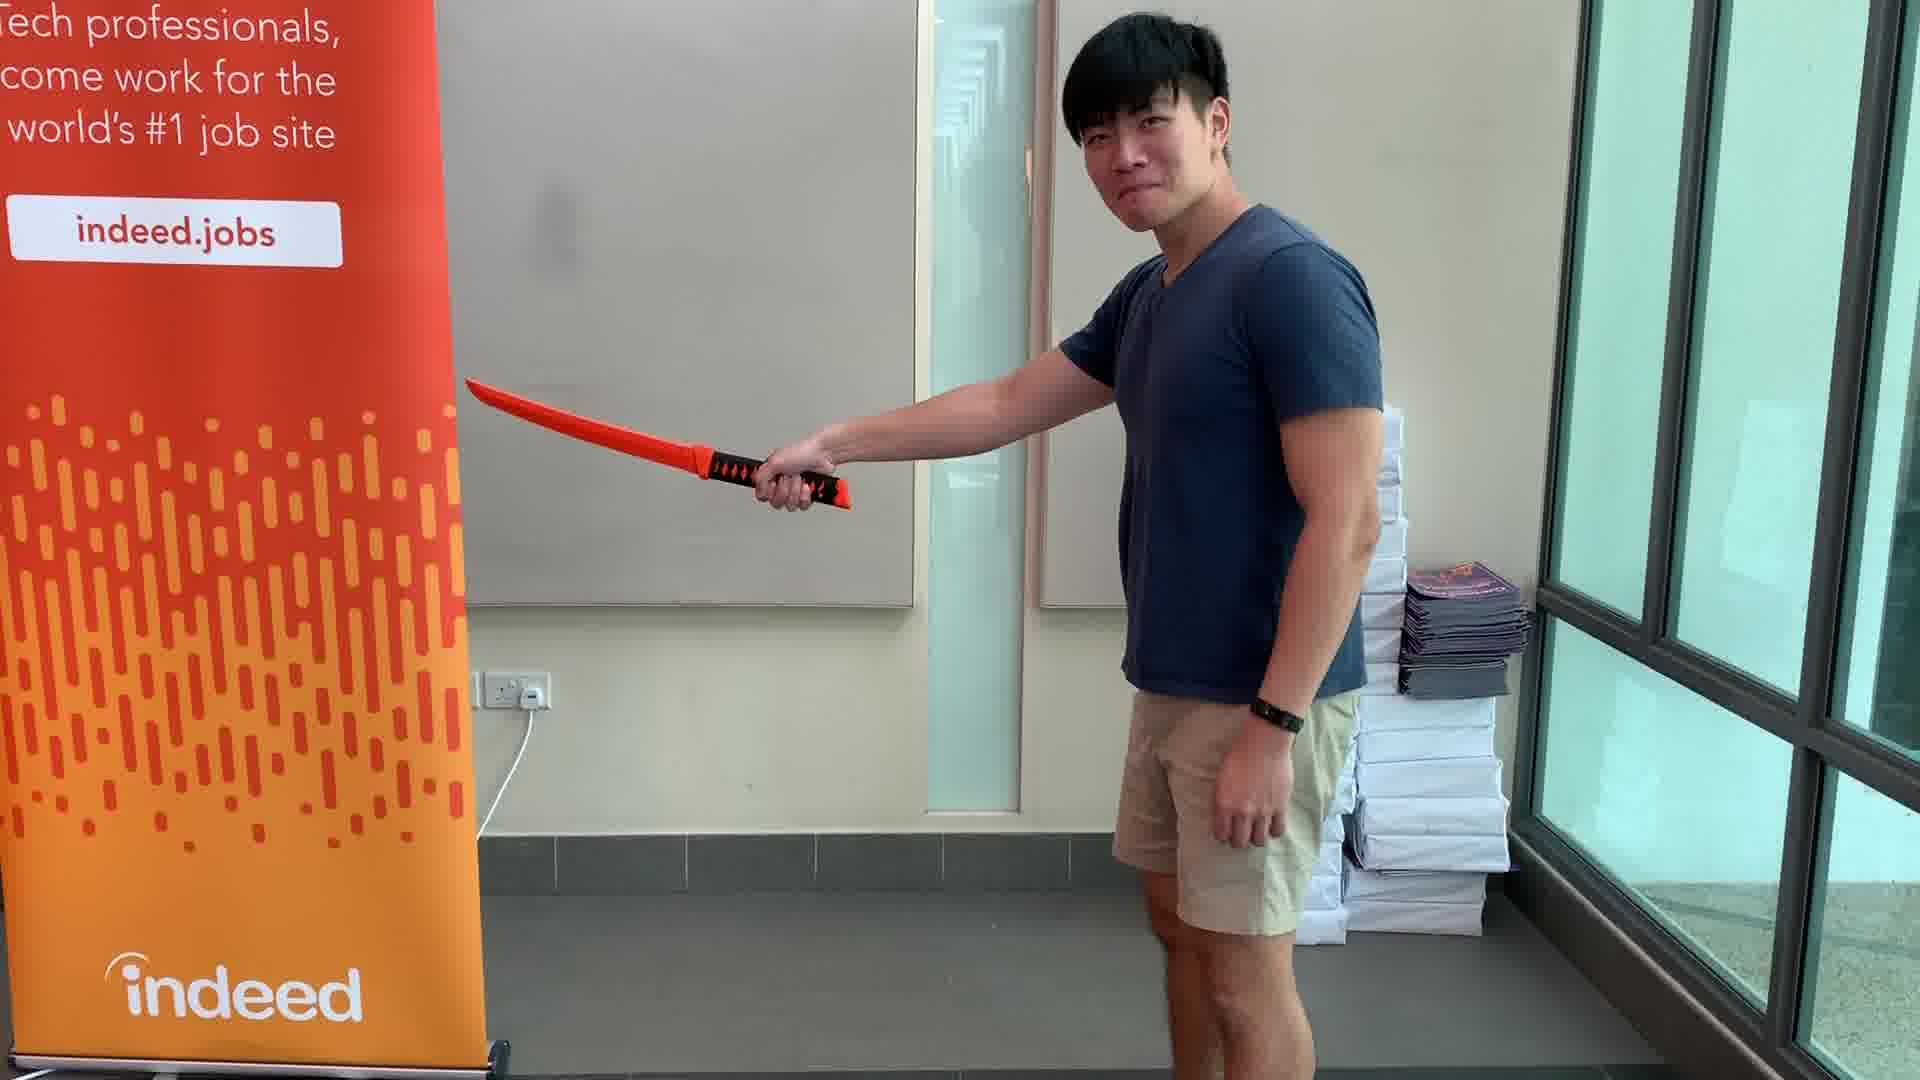knife: (454, 372, 864, 520)
